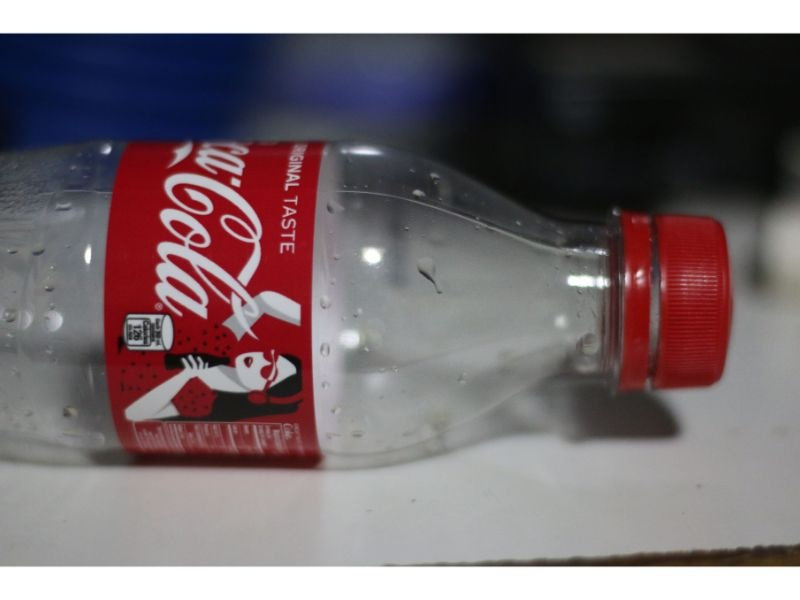PET #1: (4, 132, 738, 472)
